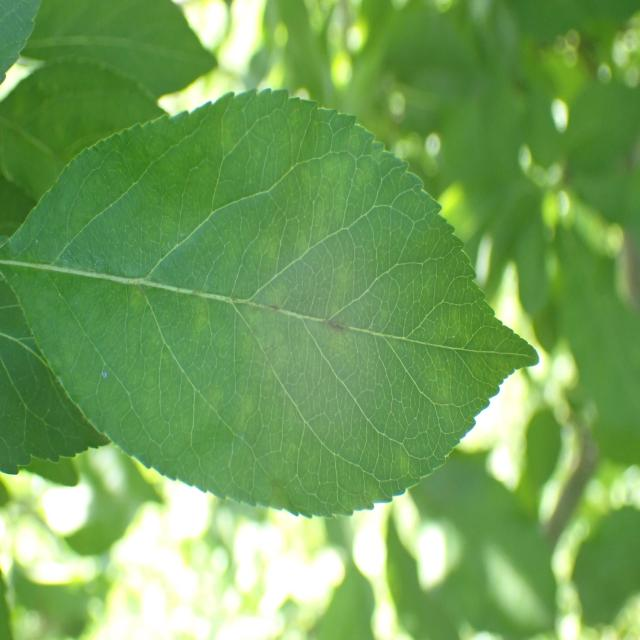scab: (98, 187, 510, 450)
